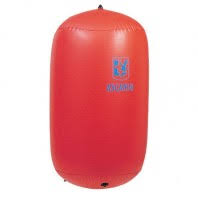buoy: (49, 6, 149, 189)
